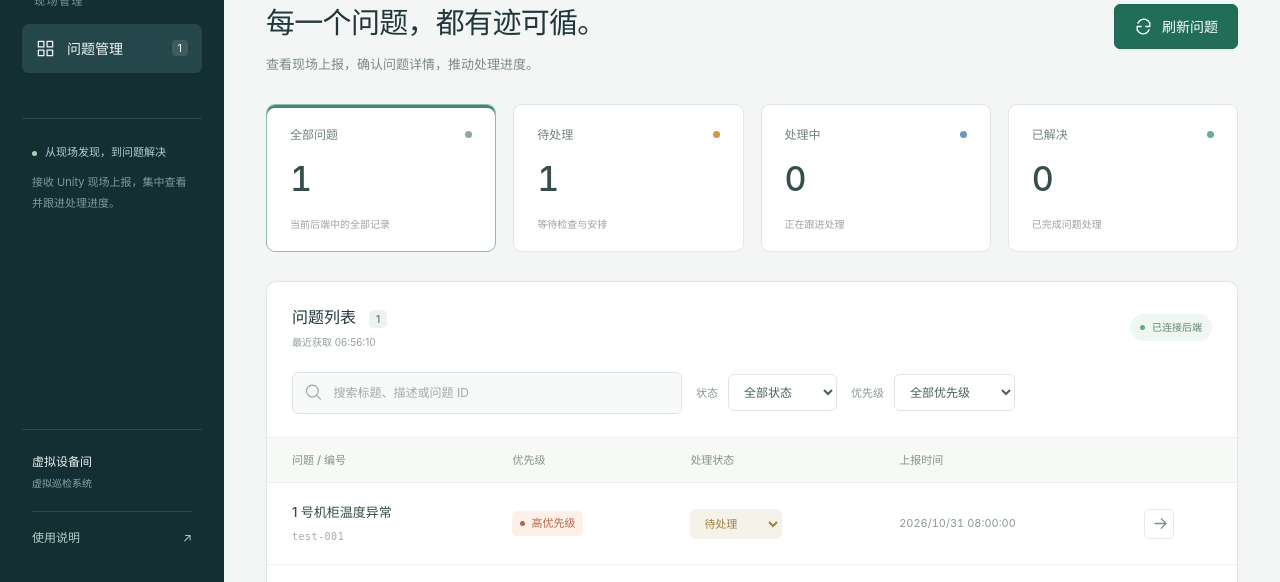
Test: 问题管理交互 › 刷新失败保留上次数据，并禁止对旧列表继续修改
Expected: the button "1 号机柜温度异常" is shown, top-left (292, 503), bottom-right (392, 523)
Click the button "刷新问题": (1176, 26) top-left (1114, 4), bottom-right (1238, 48)
(page scrolled)
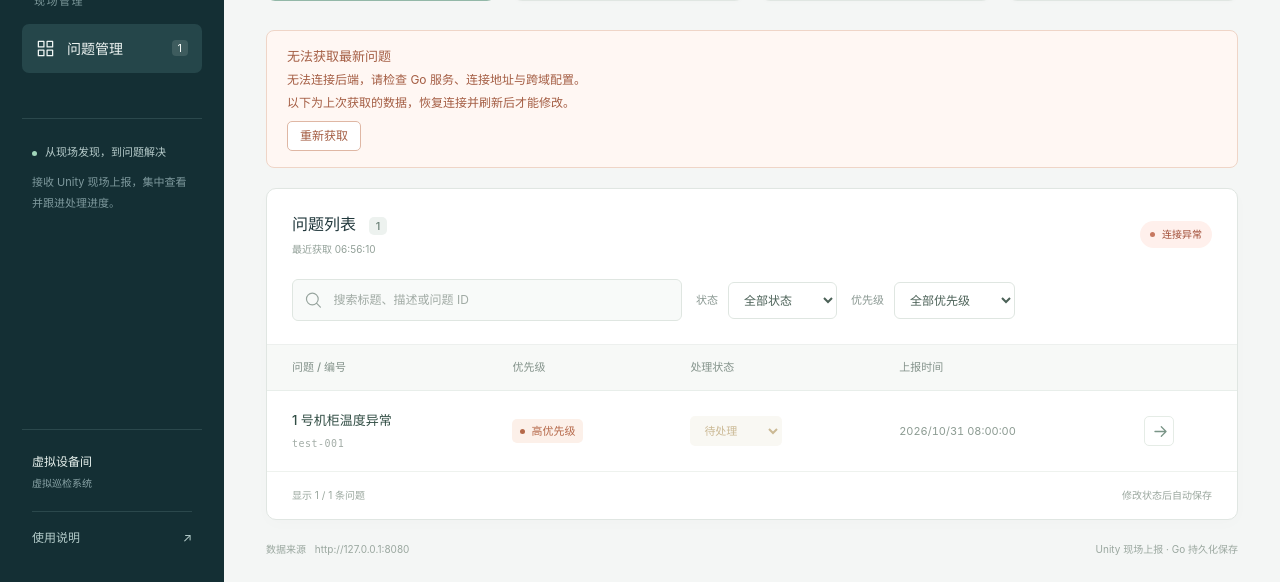
Expected: the button "1 号机柜温度异常" is shown, top-left (292, 411), bottom-right (392, 430)
Expected: the text "以下为上次获取的数据，恢复连接并刷新后才能修改。" is shown, top-left (287, 95), bottom-right (575, 110)
